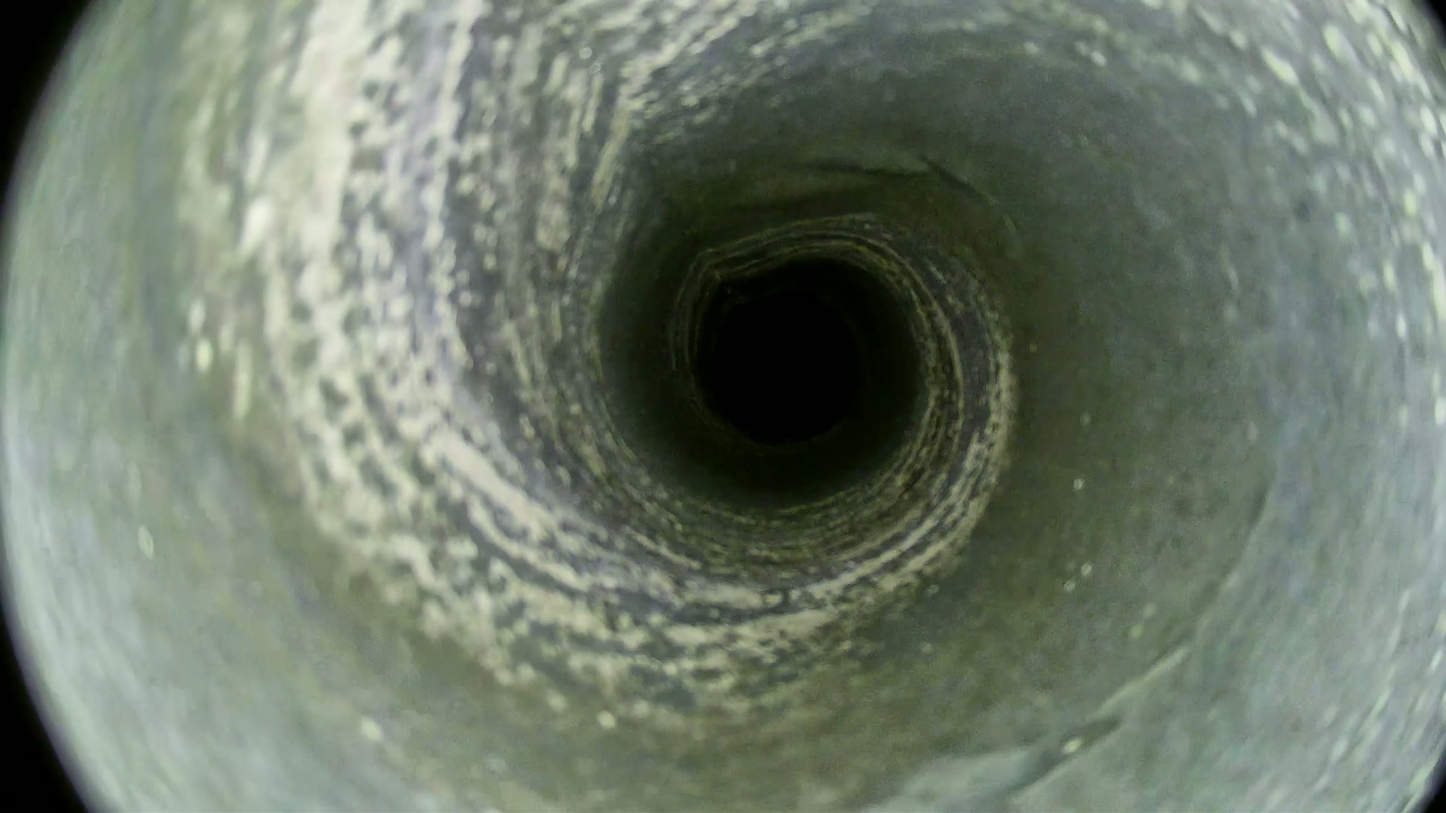hole: (713, 295, 859, 443)
